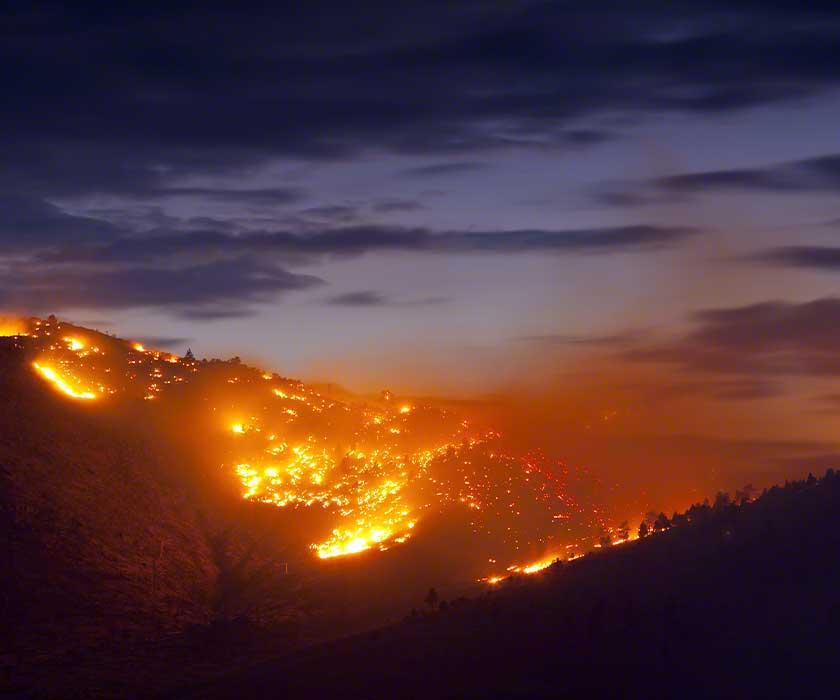fire: (198, 385, 466, 585), (482, 441, 665, 580), (11, 296, 126, 415)
